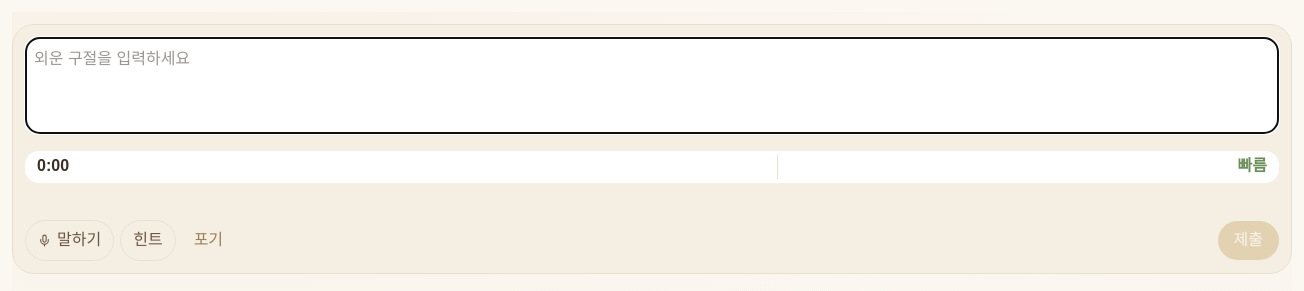
Test case: MemorizeCheckPanel › reports success on screen and retires the input
In the text box: [652, 86] box [25, 37, 1279, 134], type "그들에게 율례와 법도를 가르쳐서 마땅히 갈 길과 할 일을 그들에게 보이고"
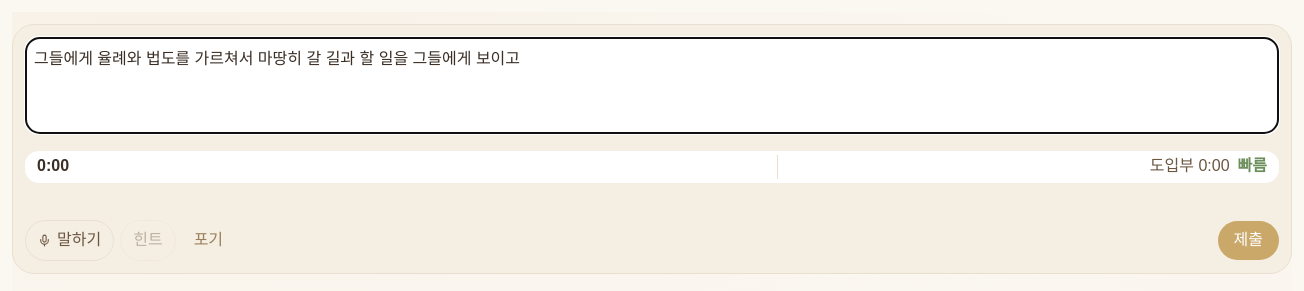
Click the button "제출": [1248, 240] box [1218, 221, 1279, 260]
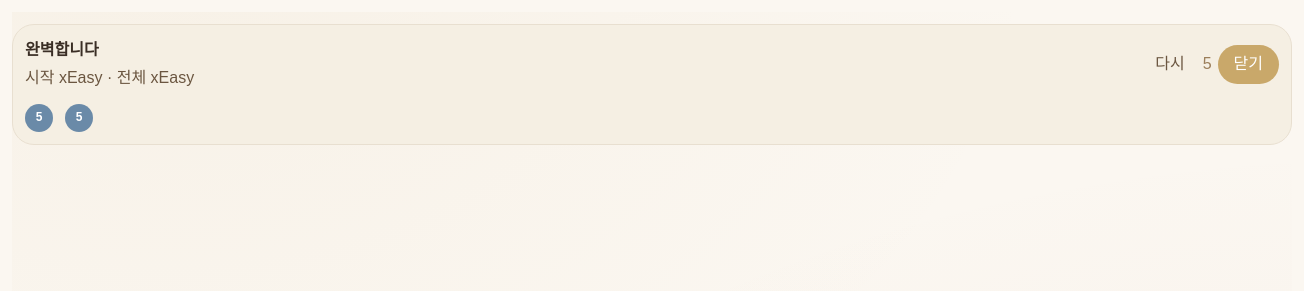
Now the element with test id "memorize-success" is shown, box [25, 37, 1279, 92]
Now the button "제출" is gone
